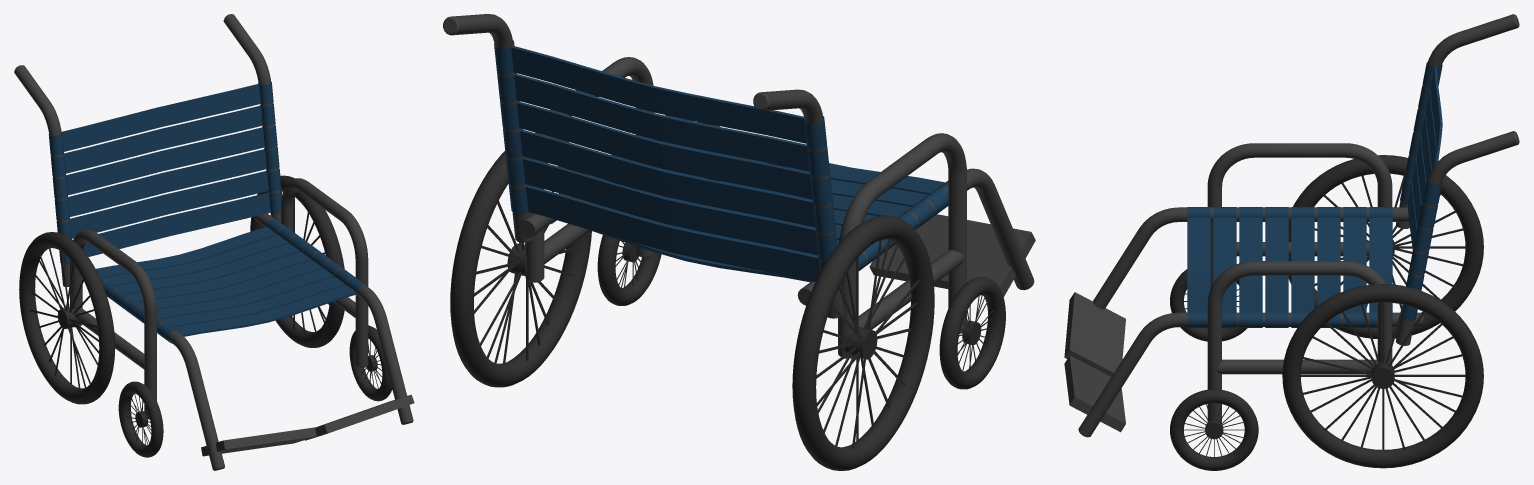
Rendered from wheelchair.fbx.
The picture shows the model from 3 angles, left to right: view 1: azimuth 30°, elevation 25°; view 2: azimuth 150°, elevation 25°; view 3: azimuth 270°, elevation 25°; orthographic projection. The views are drawn at different scales.
Parts seen in each view (by area): view 1: Seat, Rails, BackRight, BackLeft, FrontRight, FrontLeft; view 2: Seat, Rails, BackRight, BackLeft, FrontRight, FrontLeft; view 3: Rails, Seat, BackLeft, BackRight, FrontLeft, FrontRight.
Boxes of the visible parts, bbox=[...] form: Seat: bbox=[48, 82, 367, 343]; Rails: bbox=[14, 14, 414, 470]; BackRight: bbox=[19, 232, 115, 404]; BackLeft: bbox=[250, 175, 344, 347]; FrontRight: bbox=[118, 381, 163, 457]; FrontLeft: bbox=[349, 325, 392, 401]; Seat: bbox=[494, 40, 967, 285]; Rails: bbox=[443, 14, 1035, 358]; BackRight: bbox=[792, 215, 934, 470]; BackLeft: bbox=[450, 137, 591, 387]; FrontRight: bbox=[939, 277, 1005, 389]; FrontLeft: bbox=[597, 235, 661, 305]; Rails: bbox=[1064, 14, 1519, 437]; Seat: bbox=[1187, 62, 1442, 327]; BackLeft: bbox=[1282, 284, 1483, 468]; BackRight: bbox=[1288, 155, 1483, 338]; FrontLeft: bbox=[1170, 389, 1258, 470]; FrontRight: bbox=[1170, 269, 1247, 341].
Size of the model in its own units: 79.63 by 90.36 by 112.
